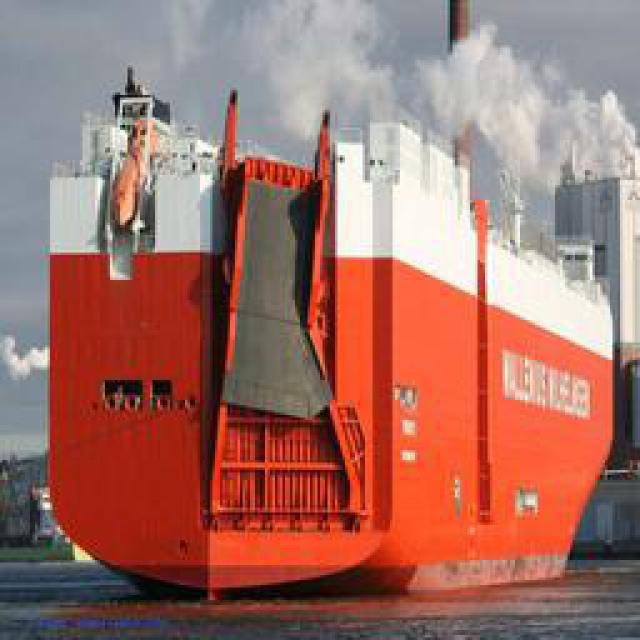Ship: (45, 56, 636, 602)
